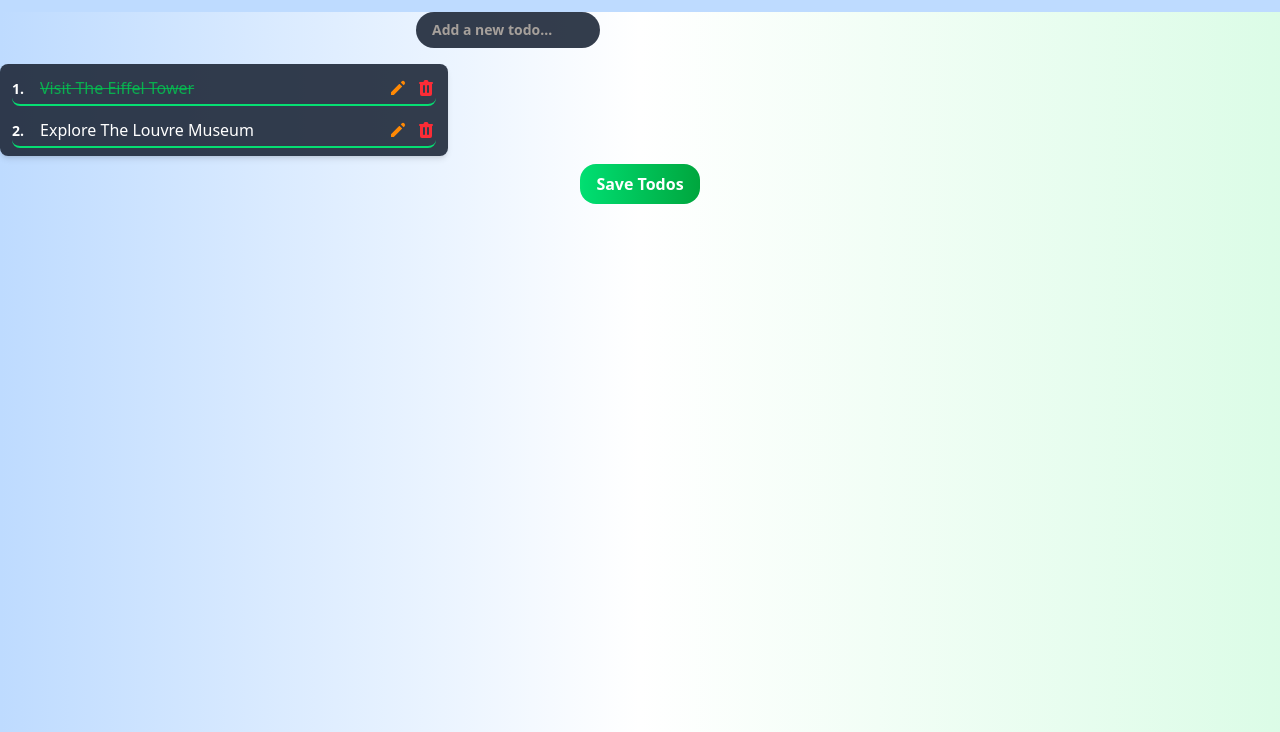
Test case: AddTodoList component › adds a new todo on screen
Type "New Todo" into the field with placeholder "Add a new todo..." at (508, 30), box [416,12,600,48]
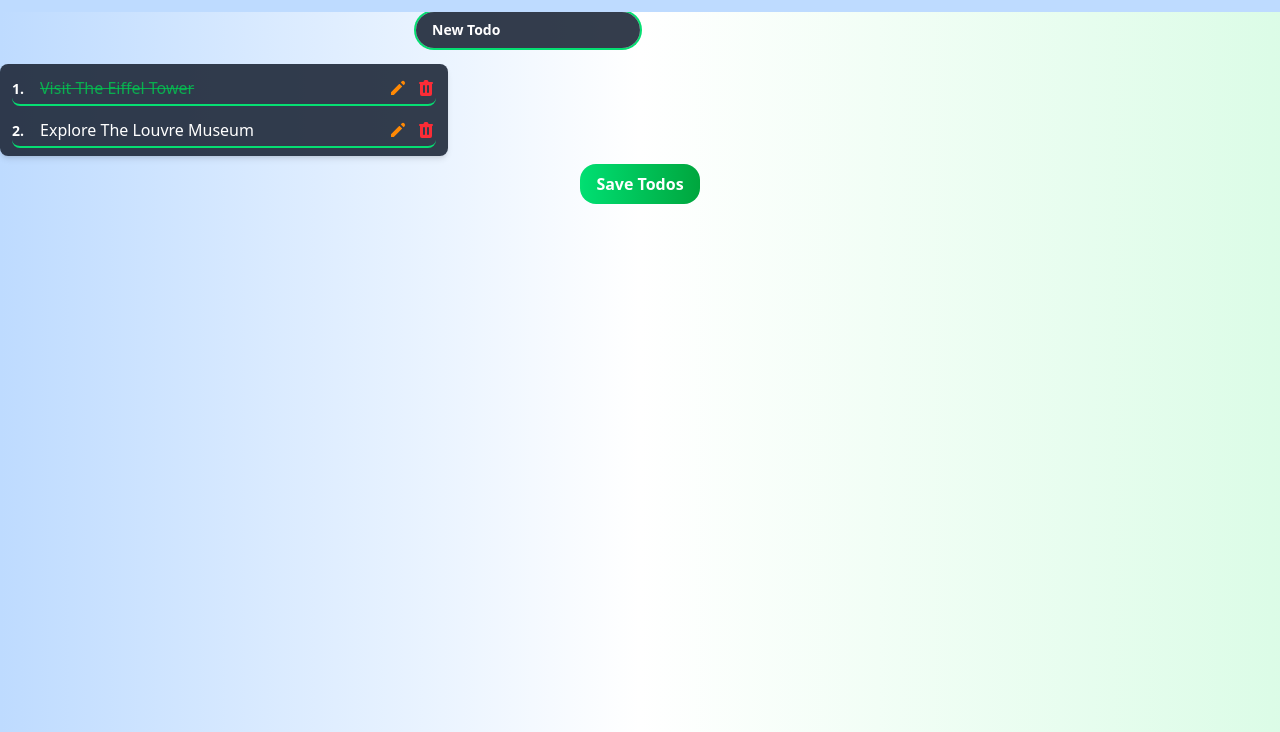
Press Enter
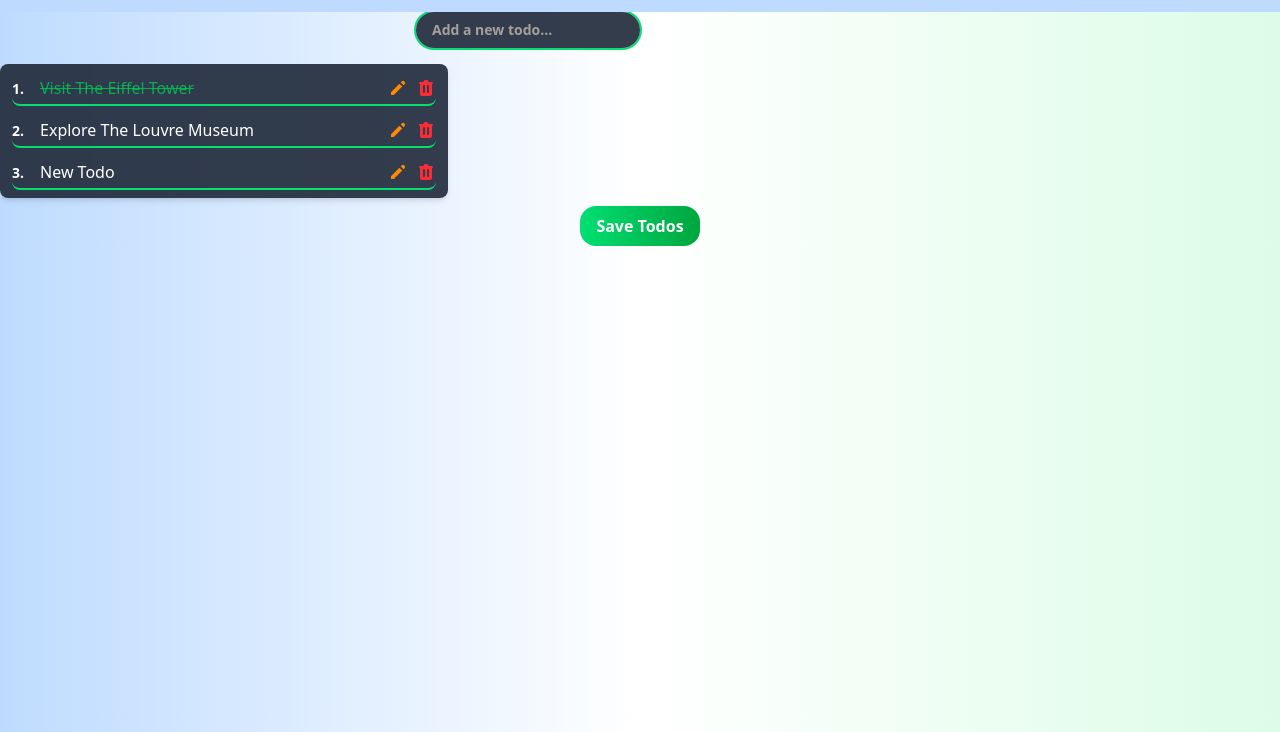
expect the text "New Todo" is shown: met, box [40,161,115,183]
